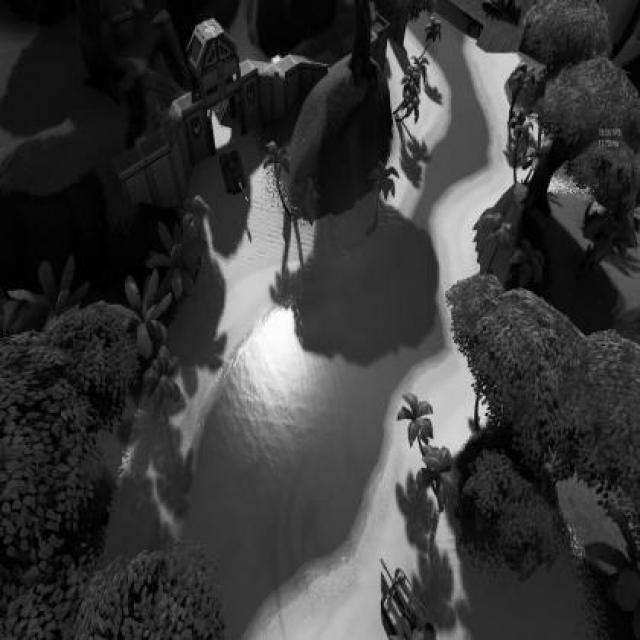tank: (218, 145, 250, 205)
